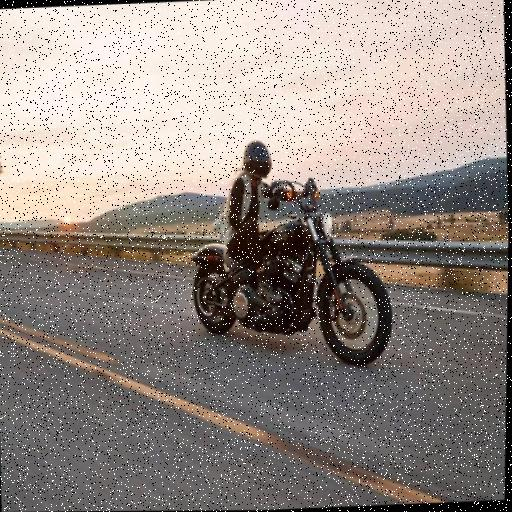Helmet: (232, 135, 274, 188)
Motor: (184, 170, 396, 371)
